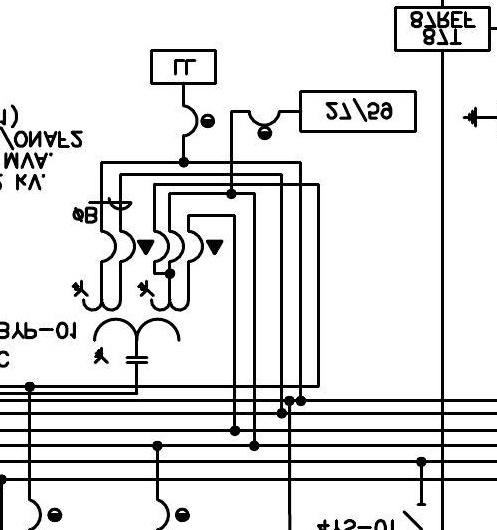115_cvt_3p: (71, 279, 191, 364)
LL: (150, 49, 217, 85)
